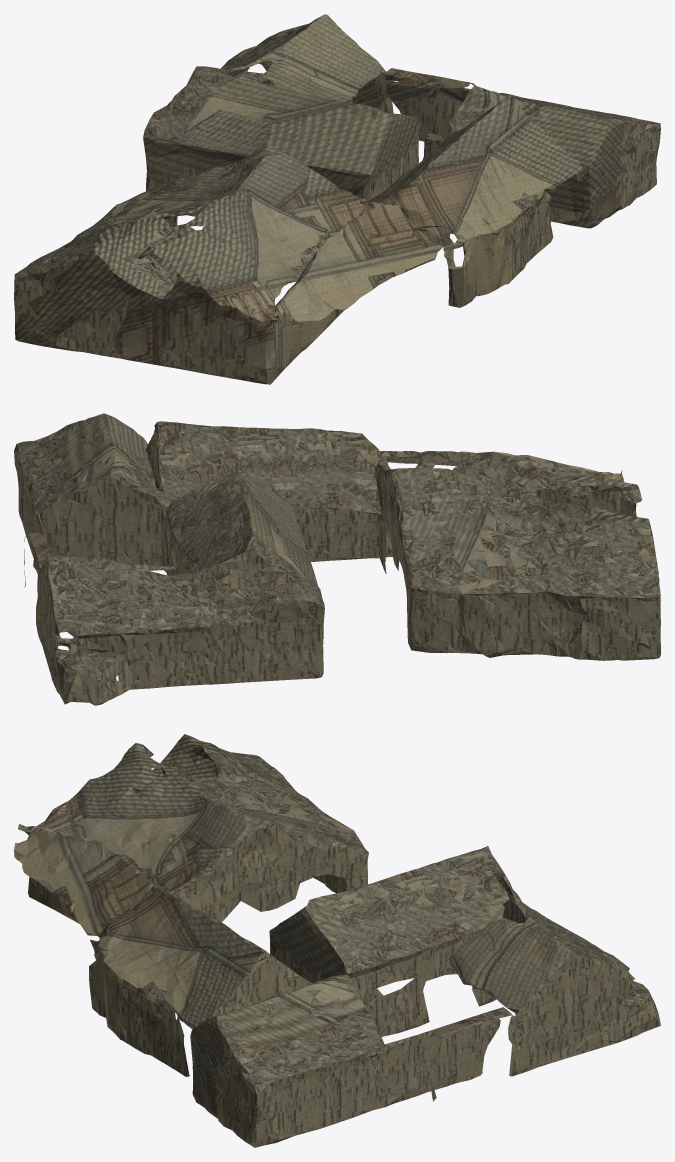
3 views of the same model, one above another, from view 1: azimuth 30°, elevation 25°; view 2: azimuth 150°, elevation 25°; view 3: azimuth 270°, elevation 25° (orthographic). The views are drawn at different scales.
Parts seen in each view (by area): view 1: painted, wall, roof; view 2: roof, wall, painted; view 3: painted, wall, roof.
Part boxes in pixels (<box>): painted: <box>15,14,634,384</box>; wall: <box>14,61,660,384</box>; roof: <box>14,15,659,314</box>; roof: <box>16,416,660,693</box>; wall: <box>14,422,660,705</box>; painted: <box>29,413,660,657</box>; painted: <box>14,734,618,1118</box>; wall: <box>18,758,660,1147</box>; roof: <box>39,735,658,1137</box>.
Size of the model in its own units: 15.9 by 3.08 by 13.22.
3 materials, 3 textured.
